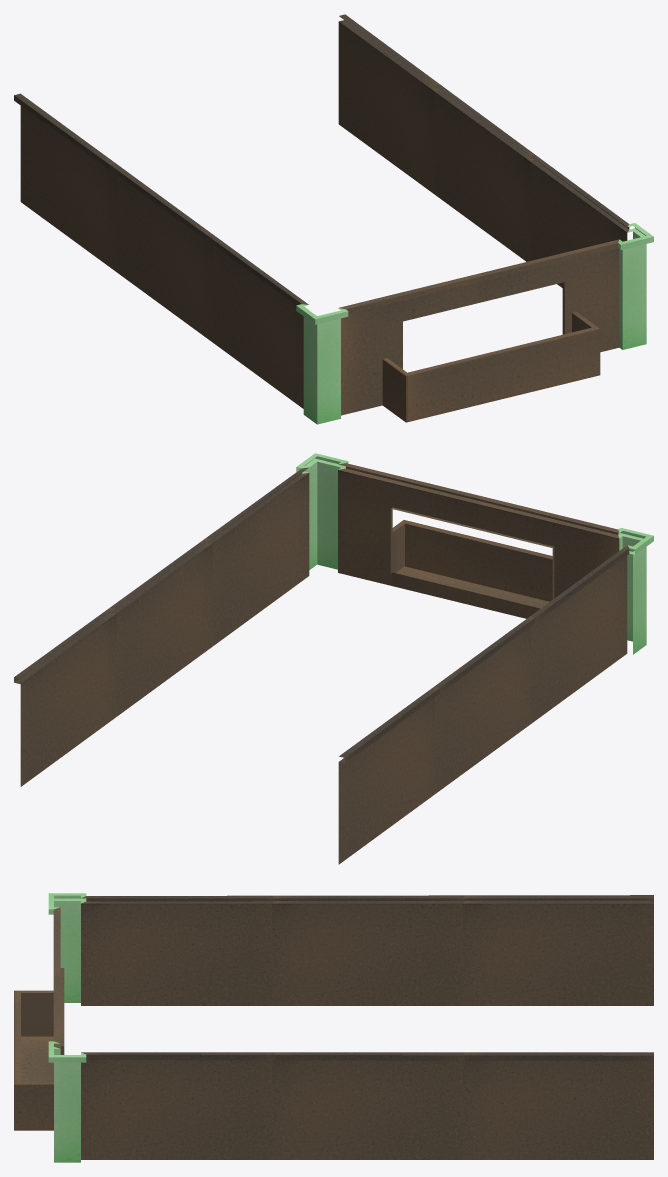
File: Predio10m_TileAndar.FBX
3 views of the same model, one above another, from view 1: azimuth 30°, elevation 25°; view 2: azimuth 150°, elevation 25°; view 3: azimuth 270°, elevation 25° (orthographic).
Parts seen in each view (by area): view 1: Predio10m_TileAndar; view 2: Predio10m_TileAndar; view 3: Predio10m_TileAndar.
Part boxes in pixels (bbox=[...]): Predio10m_TileAndar: bbox=[14, 14, 653, 424]; Predio10m_TileAndar: bbox=[14, 453, 653, 864]; Predio10m_TileAndar: bbox=[14, 893, 653, 1162].
Bounding box in the file's own units: 981 × 300 × 1618.
1 material, 1 textured.
